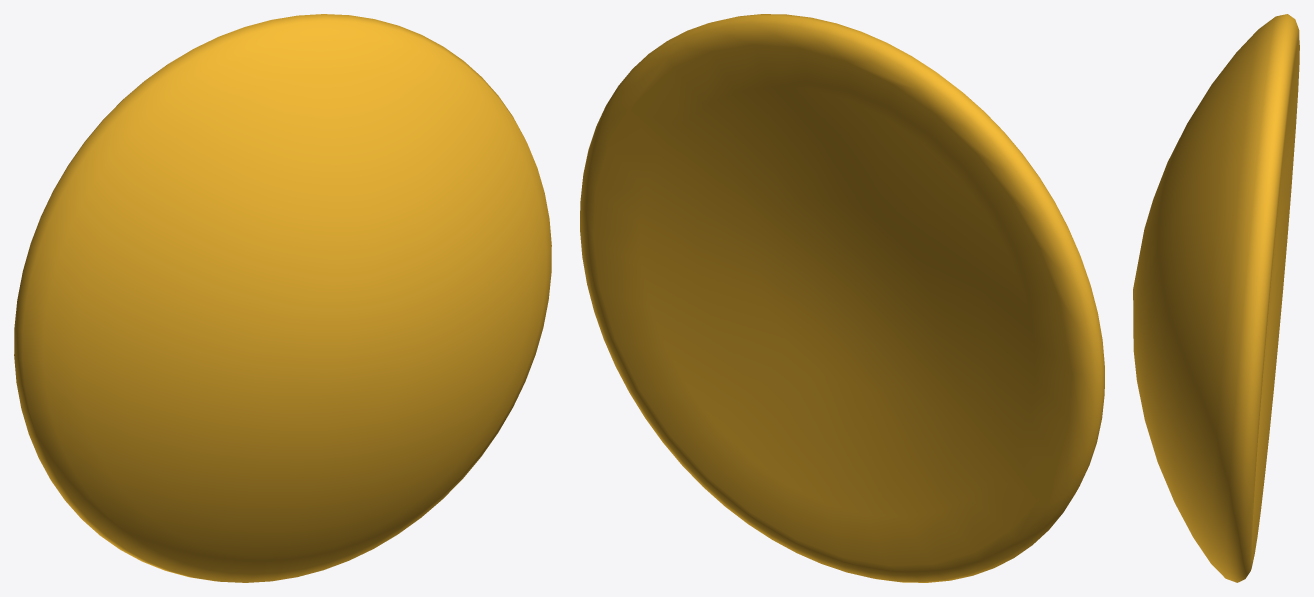
Rendered from nervoso-anterior-chamber-of-eyeball-r.glb.
3 views of the same model, side by side, from view 1: azimuth 30°, elevation 25°; view 2: azimuth 150°, elevation 25°; view 3: azimuth 270°, elevation 25° (orthographic). The views are drawn at different scales.
Visible parts, largest first — view 1: Anterior chamber of eyeball.r; view 2: Anterior chamber of eyeball.r; view 3: Anterior chamber of eyeball.r.
Boxes of the visible parts, bbox=[...] form: Anterior chamber of eyeball.r: bbox=[14, 14, 551, 582]; Anterior chamber of eyeball.r: bbox=[580, 14, 1104, 582]; Anterior chamber of eyeball.r: bbox=[1133, 14, 1299, 582].
Bounding box in the file's own units: 0.0128 × 0.0128 × 0.00374.
